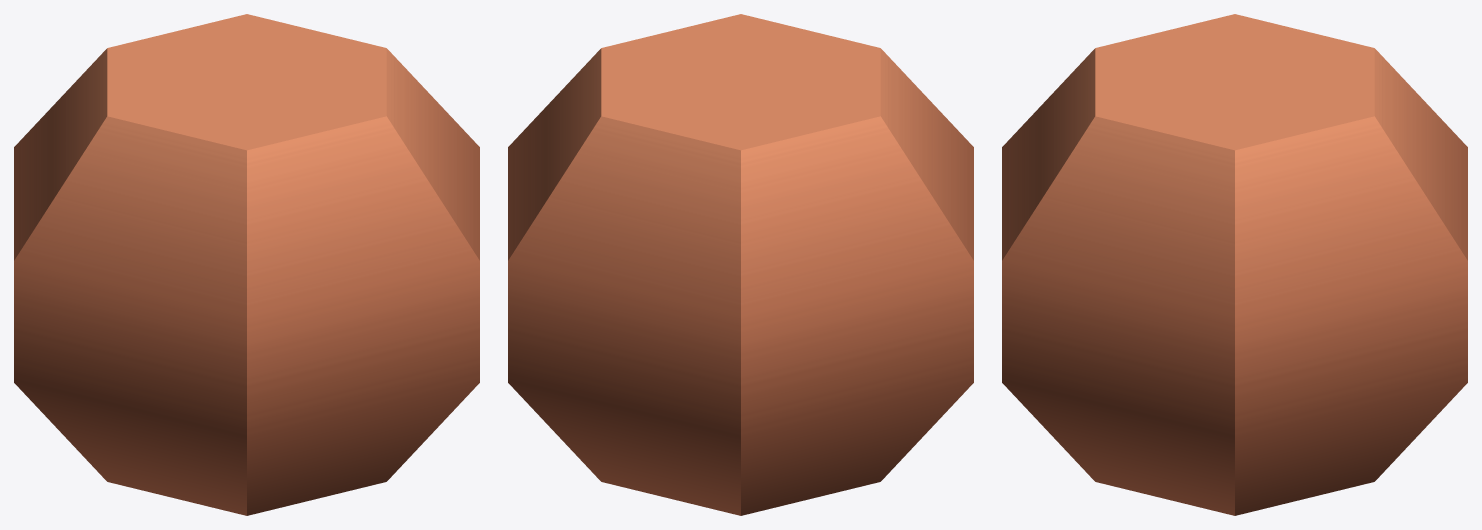
File: weapon-ammo-boulder.gltf
3 views of the same model, side by side, from view 1: azimuth 30°, elevation 25°; view 2: azimuth 150°, elevation 25°; view 3: azimuth 270°, elevation 25° (orthographic).
Visible parts, largest first — view 1: weapon-ammo-boulder; view 2: weapon-ammo-boulder; view 3: weapon-ammo-boulder.
Part boxes in pixels (x1,y1,x2,y2): weapon-ammo-boulder: (14, 14, 479, 515); weapon-ammo-boulder: (508, 14, 973, 515); weapon-ammo-boulder: (1002, 14, 1467, 515).
Size of the model in its own units: 0.32 by 0.24 by 0.2771.
Materials: 1 (1 with a texture image).
